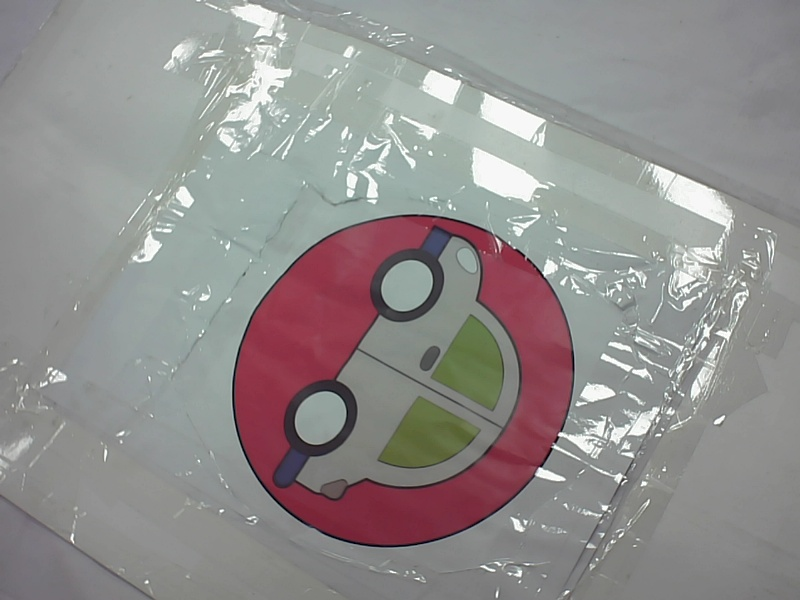areaC: (222, 209, 581, 551)
